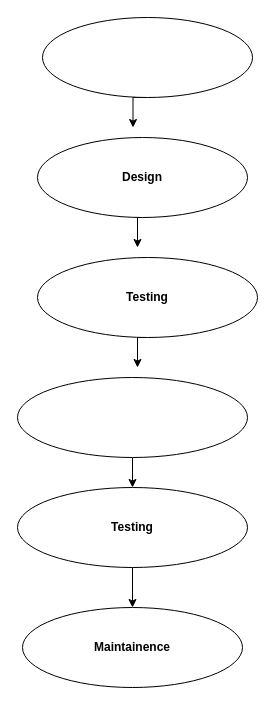
This 275x705 diagram has some shape labels left out. The box of each missing label's shape, as (x1, y1, x2, y2) in pixels:
Development: (16, 376, 248, 458)
Requirements: (42, 16, 252, 98)
